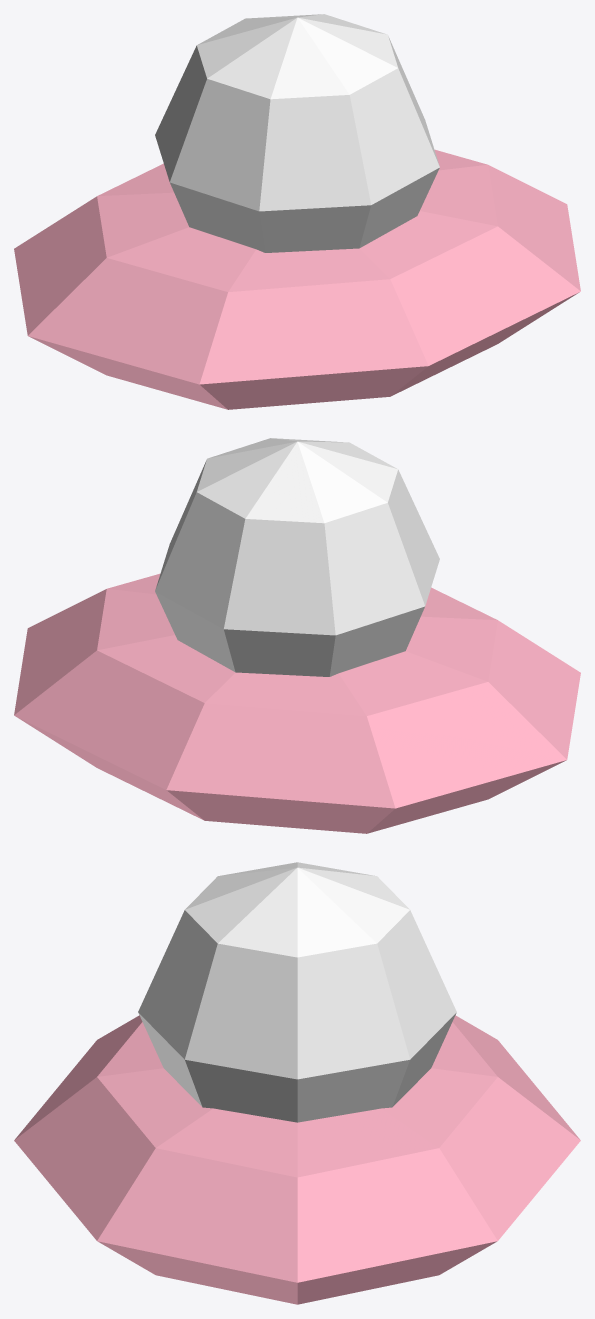
The model's file is Item_Pearl_v001.fbx.
The picture shows the model from 3 angles, top to bottom: view 1: azimuth 30°, elevation 25°; view 2: azimuth 150°, elevation 25°; view 3: azimuth 270°, elevation 25°; orthographic projection. The views are drawn at different scales.
Visible parts, largest first — view 1: Shell, Pearl; view 2: Shell, Pearl; view 3: Shell, Pearl.
Part boxes in pixels (x1,y1,x2,y2): Shell: (14, 149, 580, 409); Pearl: (155, 14, 439, 252); Shell: (14, 573, 580, 833); Pearl: (155, 438, 439, 676); Shell: (14, 1015, 580, 1304); Pearl: (138, 862, 456, 1122).
Bounding box in the file's own units: 19 × 11.3 × 16.
